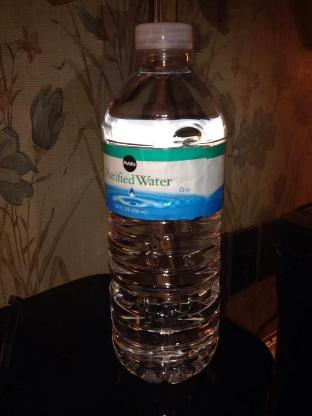Plastic Bottle: (93, 13, 253, 392)
